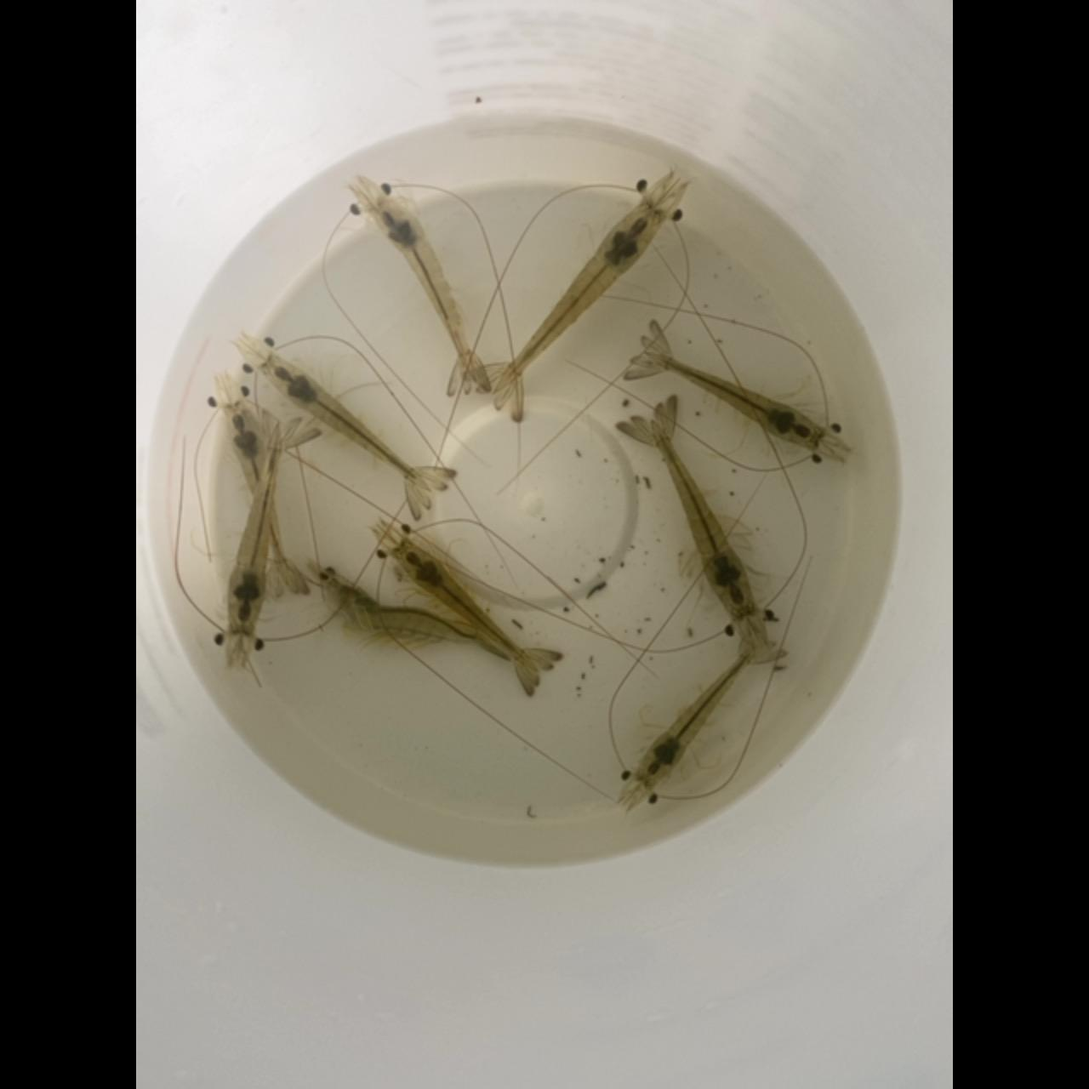side_shrimp: (326, 576, 505, 642)
top_shrimp: (493, 204, 665, 394), (260, 355, 434, 492), (652, 418, 756, 616), (370, 201, 476, 387), (394, 542, 540, 674), (636, 640, 761, 785), (645, 351, 821, 447), (224, 403, 288, 587), (228, 421, 282, 632)
